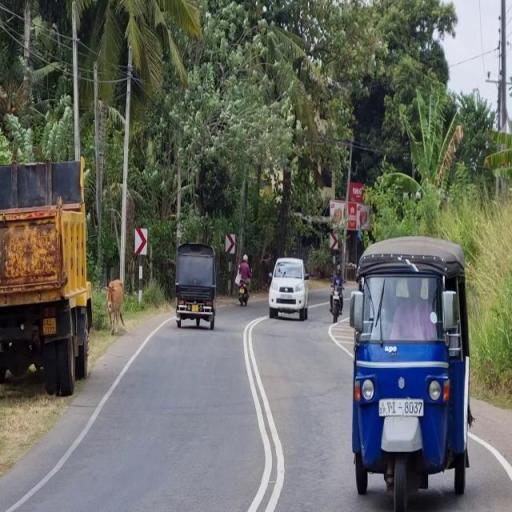double_white_line: (240, 316, 286, 510), (467, 432, 512, 478)
